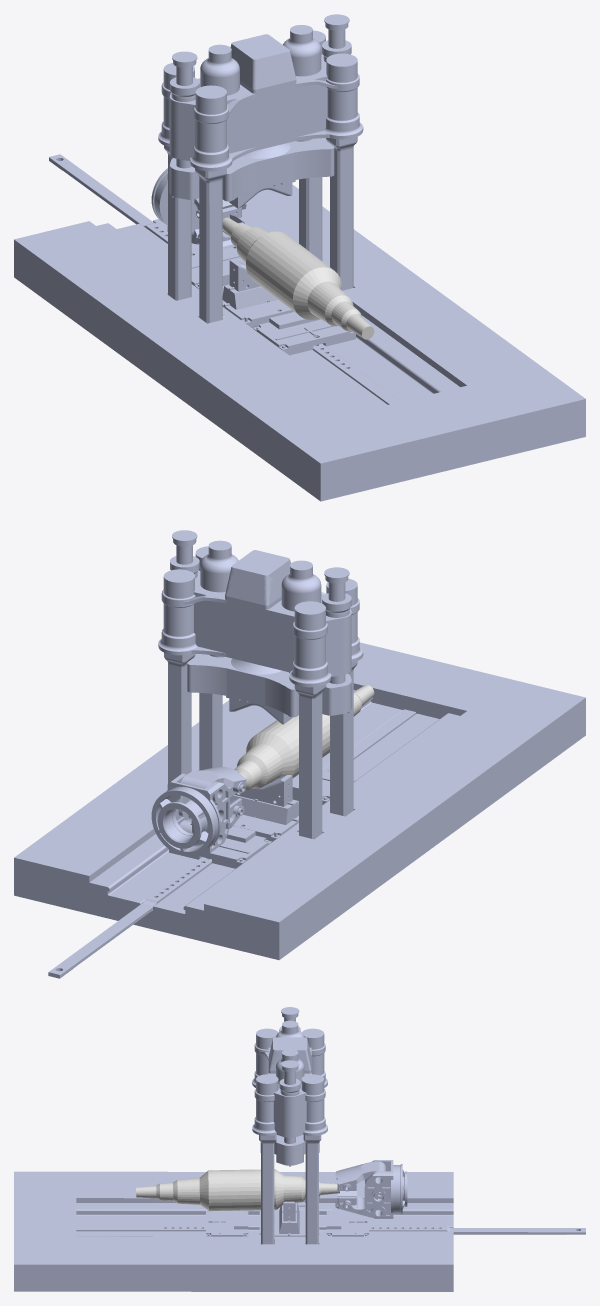
The model's file is press.glb.
3 views of the same model, one above another, from view 1: azimuth 30°, elevation 25°; view 2: azimuth 150°, elevation 25°; view 3: azimuth 270°, elevation 25° (orthographic). The views are drawn at different scales.
Parts seen in each view (by area): view 1: 5 Press Assembly, 5 Press Assembly002, Part, Press, 5 Press Assembly006, 5 Press Assembly003, 5 Press Assembly005, 5 Press Assembly015, 5 Press Assembly004, 5 Press Assembly018, 5 Press Assembly016, 5 Press Assembly024 (+6 smaller); view 2: 5 Press Assembly, 5 Press Assembly002, Press, Arm, Part, 5 Press Assembly005, 5 Press Assembly004, 5 Press Assembly006, 5 Press Assembly018, 5 Press Assembly003, 5 Press Assembly017, 5 Press Assembly020 (+6 smaller); view 3: 5 Press Assembly, 5 Press Assembly002, Part, Arm, 5 Press Assembly004, 5 Press Assembly003, 5 Press Assembly018, 5 Press Assembly015, 5 Press Assembly017, 5 Press Assembly020, Press, 5 Press Assembly016 (+4 smaller).
Boxes of the visible parts, left/top/right/bottom form: 5 Press Assembly: left=14, top=184, right=585, bottom=501; 5 Press Assembly002: left=158, top=25, right=363, bottom=171; Part: left=222, top=217, right=374, bottom=339; Press: left=169, top=138, right=334, bottom=201; 5 Press Assembly006: left=195, top=168, right=226, bottom=323; 5 Press Assembly003: left=326, top=136, right=357, bottom=290; 5 Press Assembly005: left=164, top=145, right=191, bottom=300; 5 Press Assembly015: left=253, top=312, right=355, bottom=355; 5 Press Assembly004: left=299, top=177, right=322, bottom=260; 5 Press Assembly018: left=49, top=154, right=199, bottom=258; 5 Press Assembly016: left=313, top=344, right=400, bottom=404; 5 Press Assembly024: left=222, top=284, right=293, bottom=327; 5 Press Assembly: left=14, top=642, right=585, bottom=959; 5 Press Assembly002: left=158, top=540, right=363, bottom=687; Press: left=187, top=654, right=351, bottom=717; Arm: left=151, top=773, right=229, bottom=856; Part: left=234, top=685, right=374, bottom=790; 5 Press Assembly005: left=294, top=684, right=326, bottom=839; 5 Press Assembly004: left=164, top=652, right=195, bottom=783; 5 Press Assembly006: left=330, top=661, right=357, bottom=816; 5 Press Assembly018: left=48, top=857, right=211, bottom=978; 5 Press Assembly003: left=199, top=693, right=222, bottom=770; 5 Press Assembly017: left=169, top=826, right=271, bottom=868; 5 Press Assembly020: left=178, top=767, right=246, bottom=818; 5 Press Assembly: left=14, top=1171, right=453, bottom=1291; 5 Press Assembly002: left=252, top=1020, right=327, bottom=1137; Part: left=136, top=1169, right=339, bottom=1211; Arm: left=364, top=1160, right=407, bottom=1218; 5 Press Assembly004: left=303, top=1135, right=321, bottom=1244; 5 Press Assembly003: left=259, top=1134, right=276, bottom=1244; 5 Press Assembly018: left=369, top=1226, right=585, bottom=1234; 5 Press Assembly015: left=206, top=1210, right=248, bottom=1236; 5 Press Assembly017: left=326, top=1209, right=368, bottom=1236; 5 Press Assembly020: left=335, top=1161, right=385, bottom=1198; Press: left=260, top=1134, right=319, bottom=1166; 5 Press Assembly016: left=76, top=1226, right=205, bottom=1231.
Bounding box in the file's own units: 13.41 × 14.02 × 34.93.
